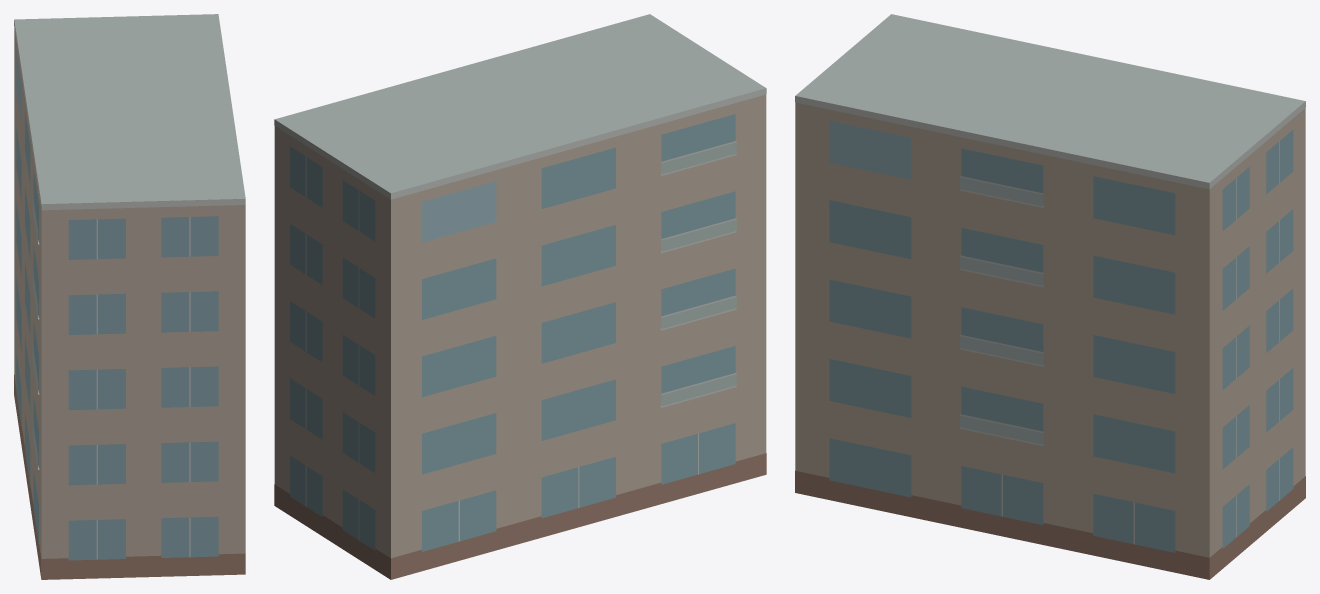
File: residential-8d3d8f95-236e-49c5-b1ef-d7c1938d4568.glb
The picture shows the model from 3 angles, left to right: view 1: azimuth 30°, elevation 25°; view 2: azimuth 150°, elevation 25°; view 3: azimuth 270°, elevation 25°; orthographic projection. The views are drawn at different scales.
Visible parts, largest first — view 1: residential-8d3d8f95-236e-49c5-b1ef-d7c1938d4568.tmp; view 2: residential-8d3d8f95-236e-49c5-b1ef-d7c1938d4568.tmp; view 3: residential-8d3d8f95-236e-49c5-b1ef-d7c1938d4568.tmp.
Boxes of the visible parts, <box> form: residential-8d3d8f95-236e-49c5-b1ef-d7c1938d4568.tmp: <box>14,14,245,579</box>; residential-8d3d8f95-236e-49c5-b1ef-d7c1938d4568.tmp: <box>274,14,766,579</box>; residential-8d3d8f95-236e-49c5-b1ef-d7c1938d4568.tmp: <box>795,14,1305,579</box>.
Size of the model in its own units: 13.7 by 15 by 17.5.
